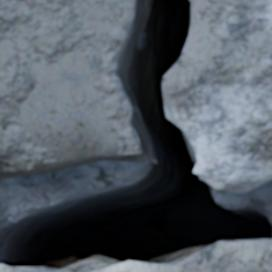brick: (69, 240, 271, 271), (0, 267, 59, 271)
broken_brick: (0, 0, 152, 179), (163, 0, 271, 194)
crack: (0, 0, 271, 271)
